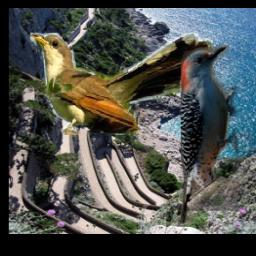Cuckoo: (29, 33, 212, 135)
Woodpecker: (180, 41, 237, 224)
